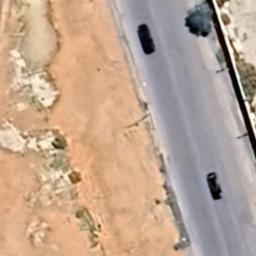sedan: (136, 22, 156, 56), (206, 172, 222, 198)
